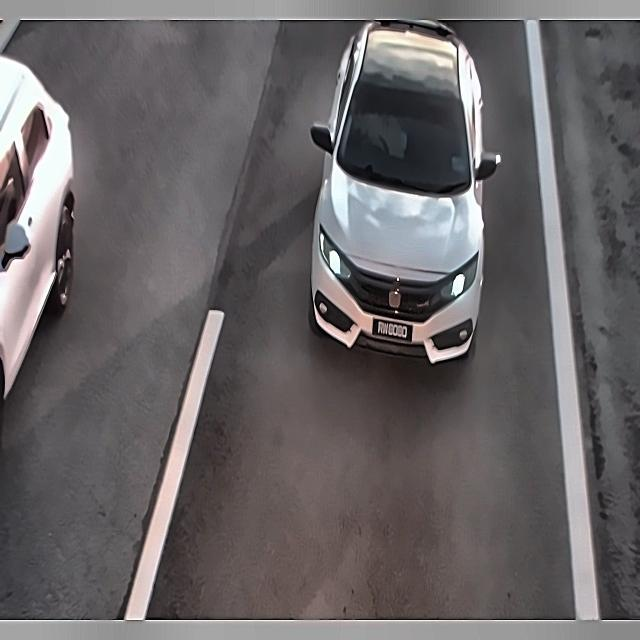car: (368, 311, 419, 349)
